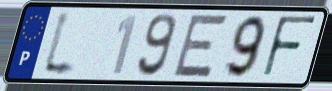1: (111, 14, 140, 76)
9: (222, 13, 267, 81), (135, 12, 179, 79)
E: (170, 12, 231, 80)
F: (260, 14, 320, 81)
L: (38, 7, 80, 81)
